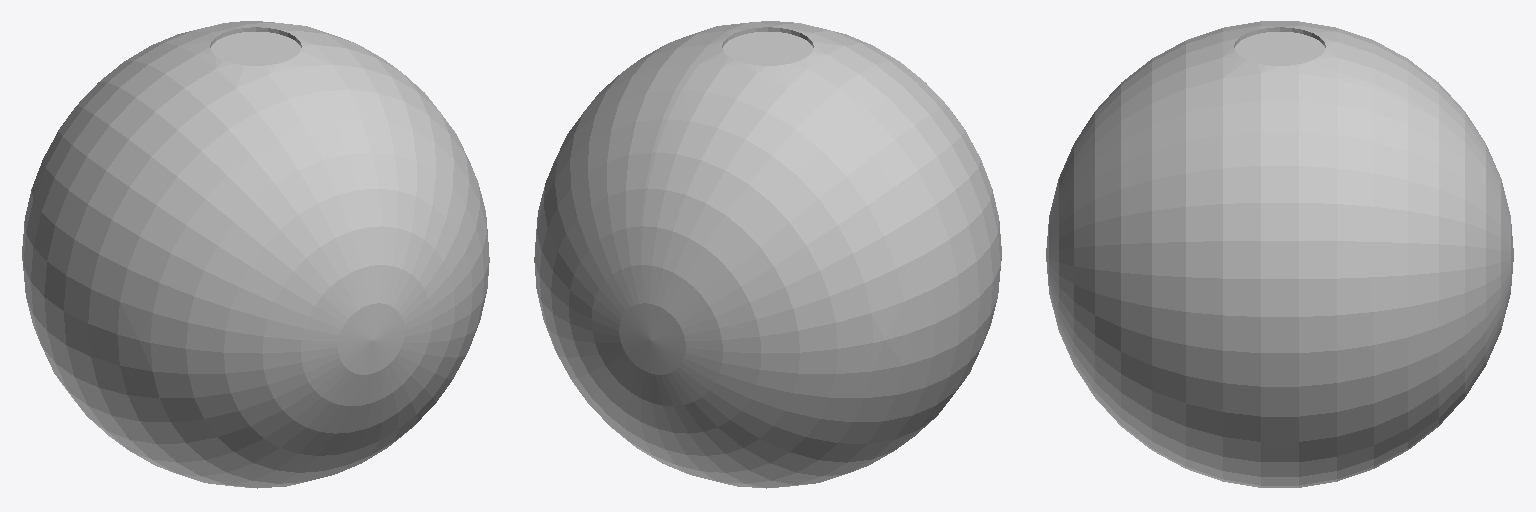
File: integrating_sphere.obj
3 views of the same model, side by side, from view 1: azimuth 30°, elevation 25°; view 2: azimuth 150°, elevation 25°; view 3: azimuth 270°, elevation 25° (orthographic).
Visible parts, largest first — view 1: 实体1, 实体2; view 2: 实体1, 实体2; view 3: 实体1, 实体2.
Boxes of the visible parts, x1=… form: 实体1: x1=22, y1=21, x2=489, y2=488; 实体2: x1=211, y1=32, x2=300, y2=65; 实体1: x1=534, y1=21, x2=1001, y2=488; 实体2: x1=723, y1=32, x2=812, y2=65; 实体1: x1=1046, y1=21, x2=1513, y2=487; 实体2: x1=1235, y1=32, x2=1324, y2=65.
Size of the model in its own units: 10.17 by 10.07 by 10.2.